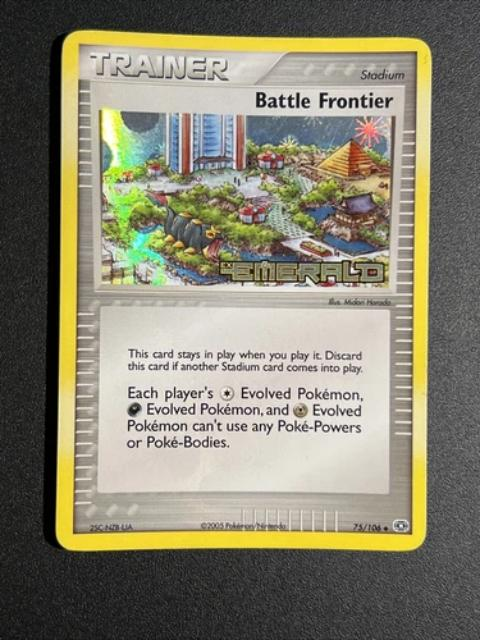Card: (48, 25, 433, 559)
Name: (250, 87, 397, 115)
